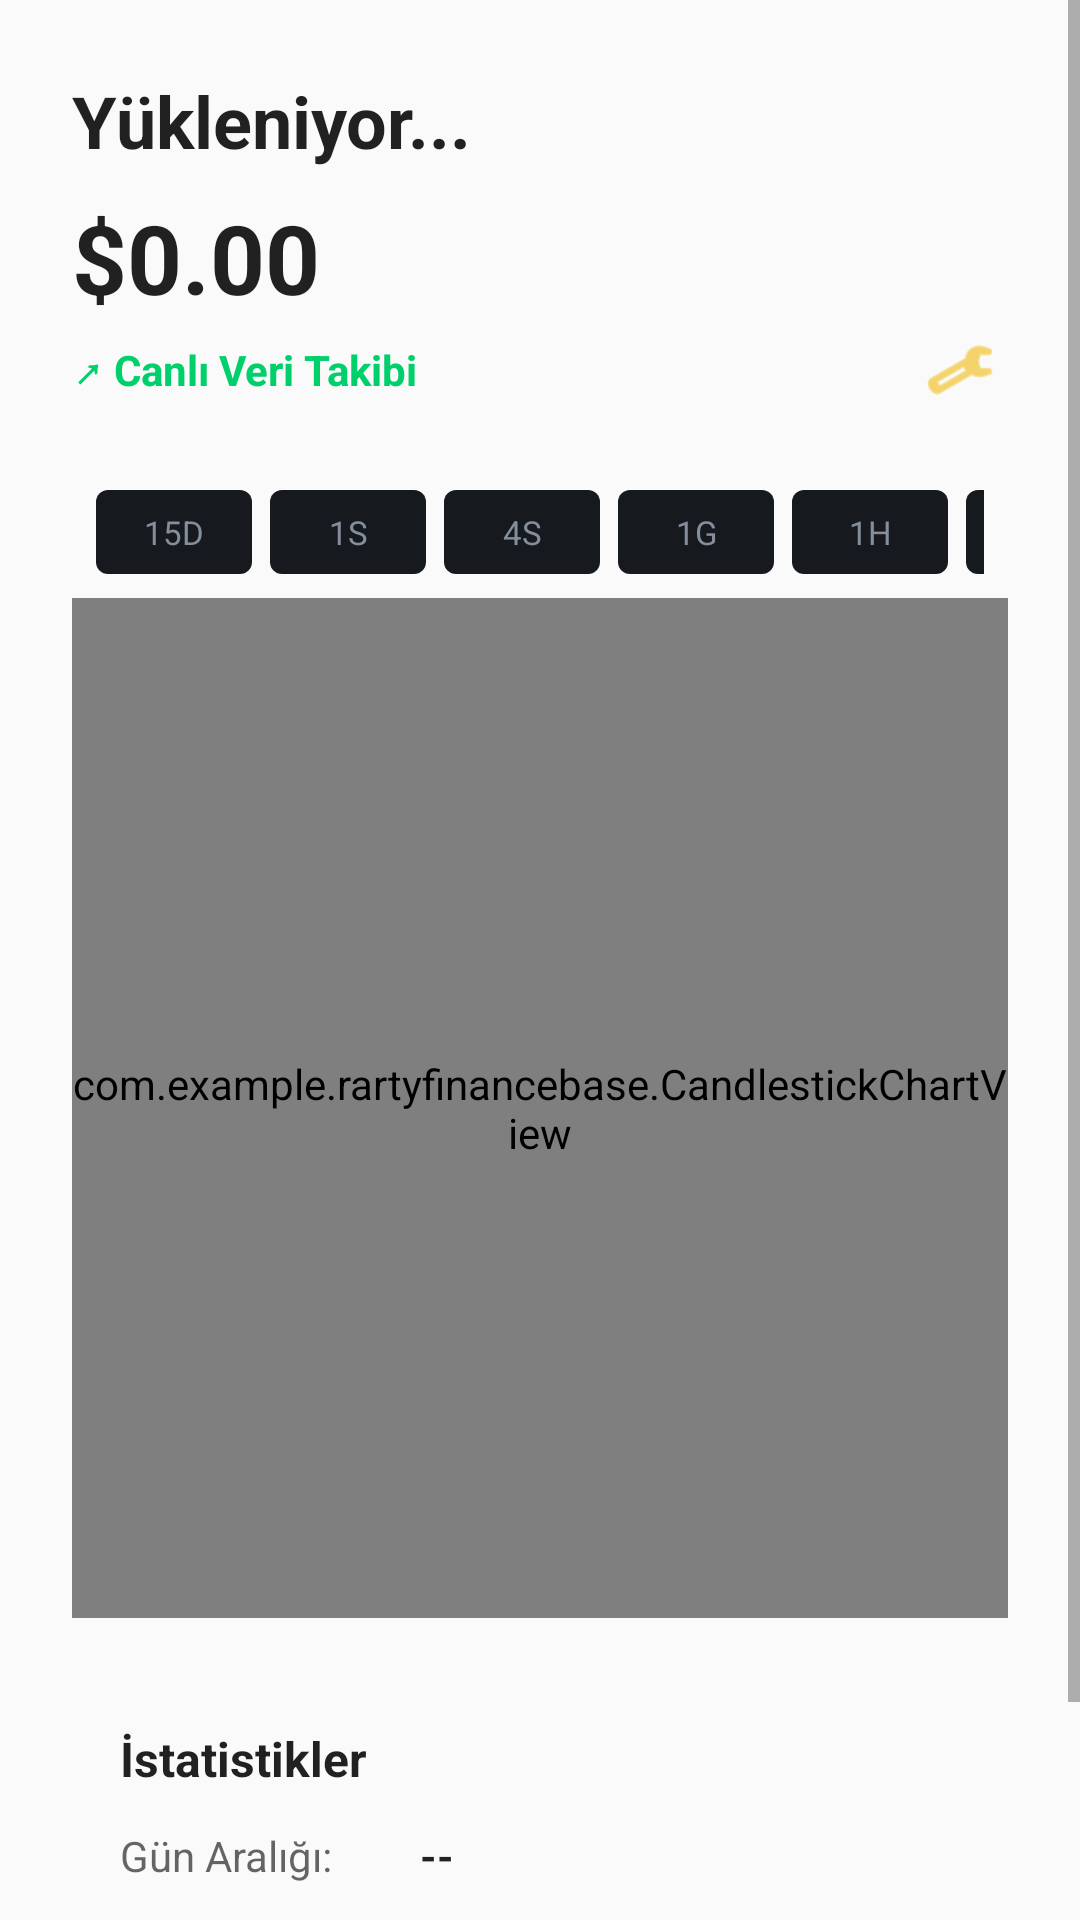

Icons on this 1080w x 1920h Android screen, each with its box as bbox=[x1, y1, x2, y2]:
manage: bbox=[927, 345, 992, 395]
